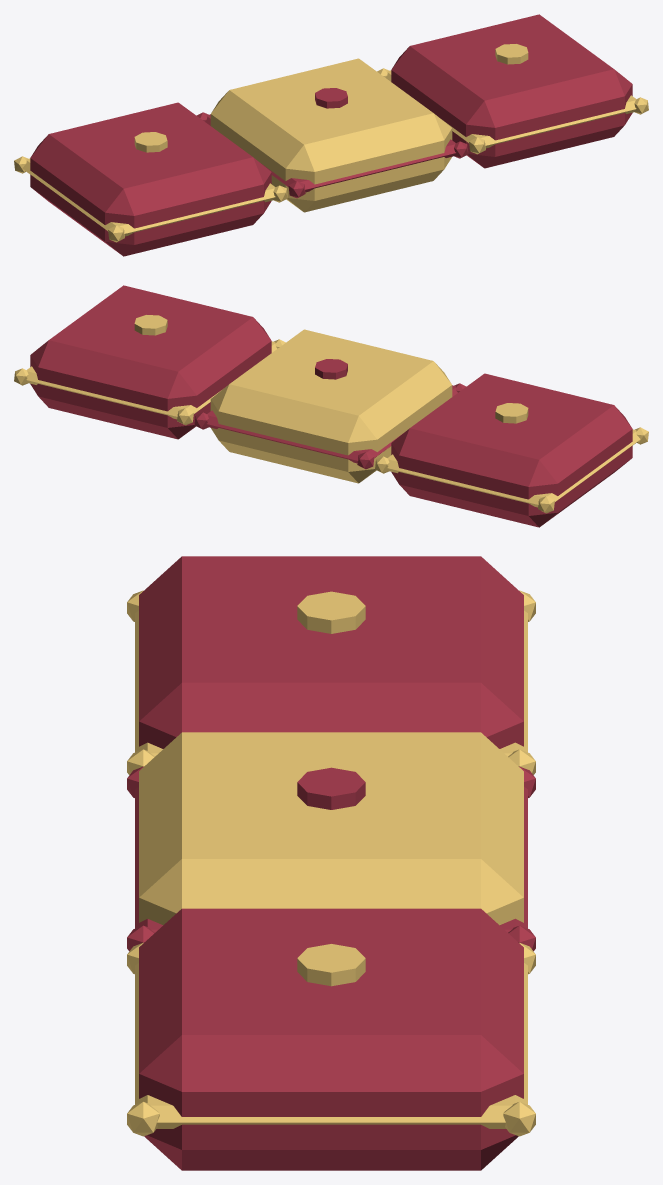
File: majlis-cushions.glb
3 renders of one model, top to bottom at view 1: azimuth 30°, elevation 25°; view 2: azimuth 150°, elevation 25°; view 3: azimuth 270°, elevation 25°, orthographic. The views are drawn at different scales.
Visible parts, largest first — view 1: majlis-cushions; view 2: majlis-cushions; view 3: majlis-cushions.
Part boxes in pixels (left/top/right/bottom): majlis-cushions: left=14, top=14, right=648, bottom=256; majlis-cushions: left=14, top=285, right=648, bottom=527; majlis-cushions: left=127, top=556, right=535, bottom=1170.
Size of the model in its own units: 0.5821 by 0.077 by 0.1913.
